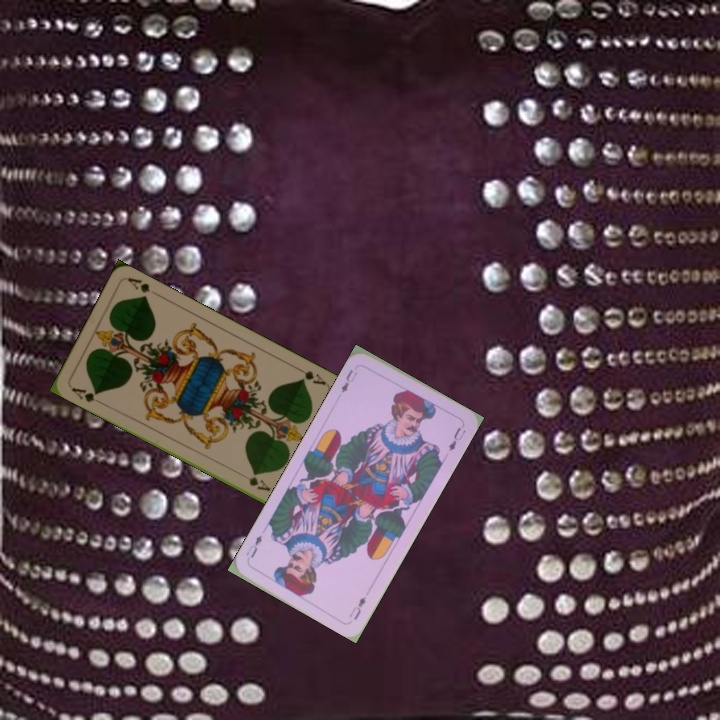EU: (345, 592, 369, 623), (337, 365, 360, 396)
GA: (291, 362, 329, 388), (67, 383, 105, 407)
